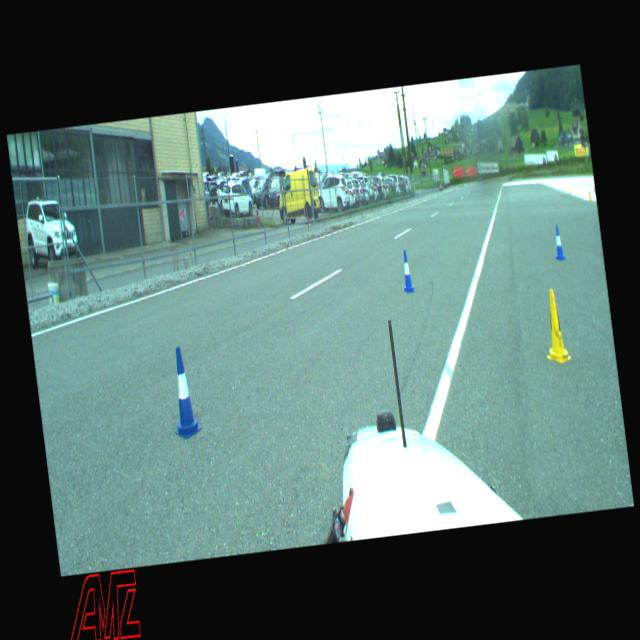blue_cone: (166, 347, 200, 432), (399, 250, 414, 291), (552, 224, 565, 260)
yellow_cone: (538, 288, 572, 362)
